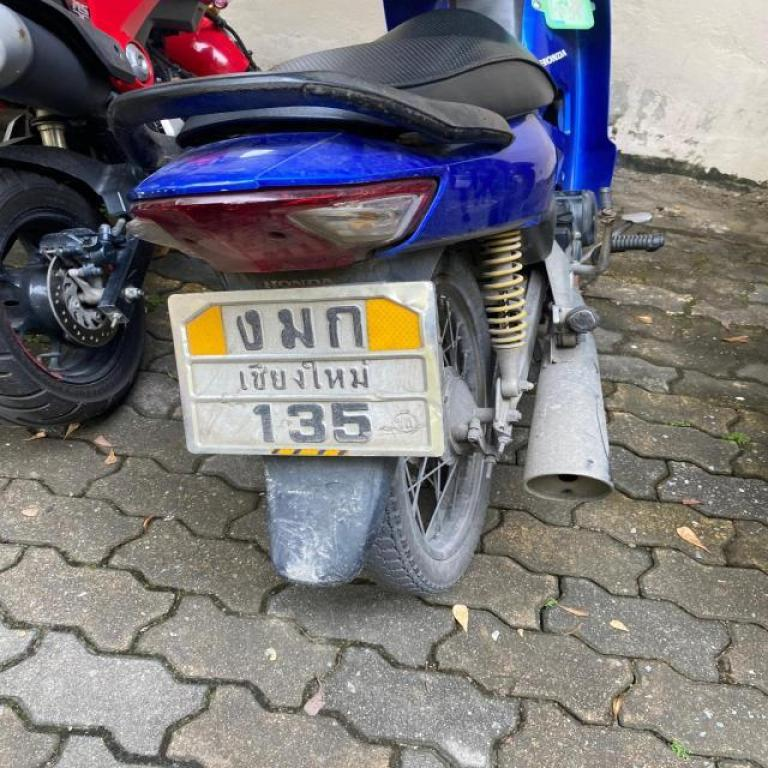license plate: (162, 287, 457, 474)
